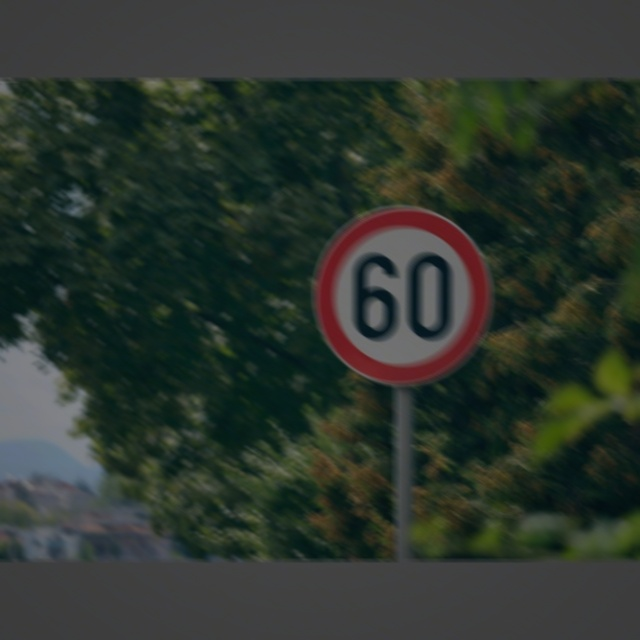Speed_Limit_60: (309, 206, 491, 387)
